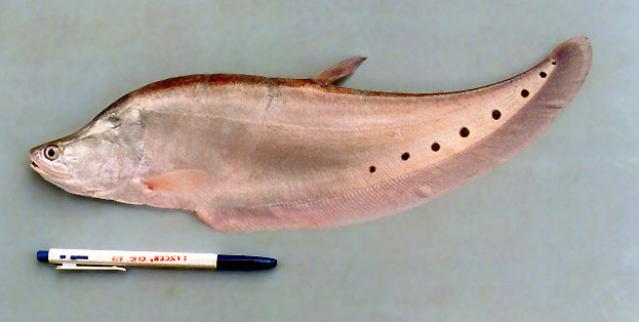Mulut: (25, 134, 79, 194)
Sirip Dada: (138, 168, 220, 200)
Sirip Punggung: (308, 50, 374, 94)
